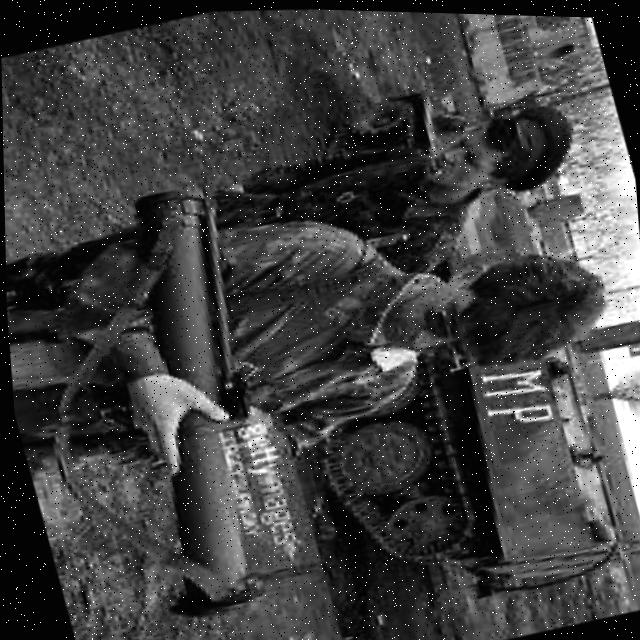rocket: (64, 173, 323, 629)
